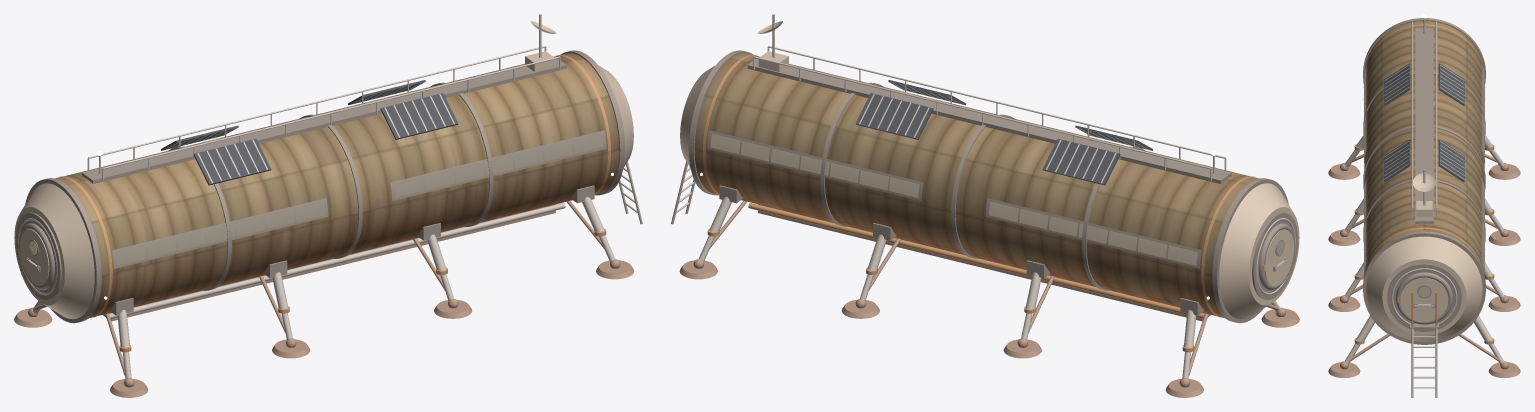
The model's file is W03_tube_habitat_long_plain.glb.
3 views of the same model, side by side, from view 1: azimuth 30°, elevation 25°; view 2: azimuth 150°, elevation 25°; view 3: azimuth 270°, elevation 25° (orthographic). The views are drawn at different scales.
Parts seen in each view (by area): view 1: hull, joint_ring, hatch_light_ring, endcone, hatch_porthole, leg_brace; view 2: hull, joint_ring, endcone, hatch_light_ring, hatch_porthole, leg_brace; view 3: hull, joint_ring, endcone, hatch_light_ring, leg_brace, hatch_porthole, antenna_dish.
Boxes of the visible parts, x1,y1,x2,y2 form: hull: (55,53,619,317); joint_ring: (15,50,625,323); hatch_light_ring: (18,14,642,378); endcone: (14,51,633,352); hatch_porthole: (29,133,603,265); leg_brace: (14,201,634,397); hull: (694,53,1258,317); joint_ring: (688,50,1298,323); endcone: (680,51,1299,352); hatch_light_ring: (671,14,1295,378); hatch_porthole: (710,133,1284,265); leg_brace: (679,201,1299,397); hull: (1364,21,1484,274); joint_ring: (1363,18,1485,344); endcone: (1354,24,1494,344); hatch_light_ring: (1344,18,1504,397); leg_brace: (1328,154,1520,378); hatch_porthole: (1364,66,1484,297); antenna_dish: (1412,173,1436,191).
Size of the model in its own units: 14.52 by 5.25 by 4.8.
Materials: 9 (1 with a texture image).
